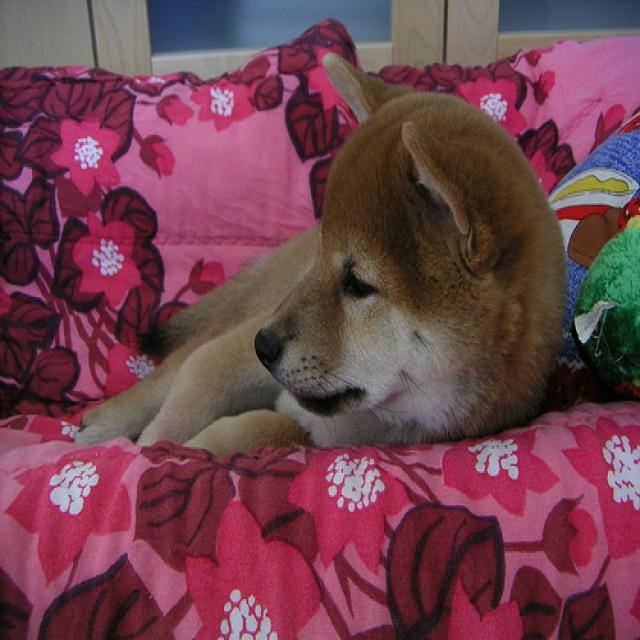dog-shiba_inu: (73, 48, 573, 464)
